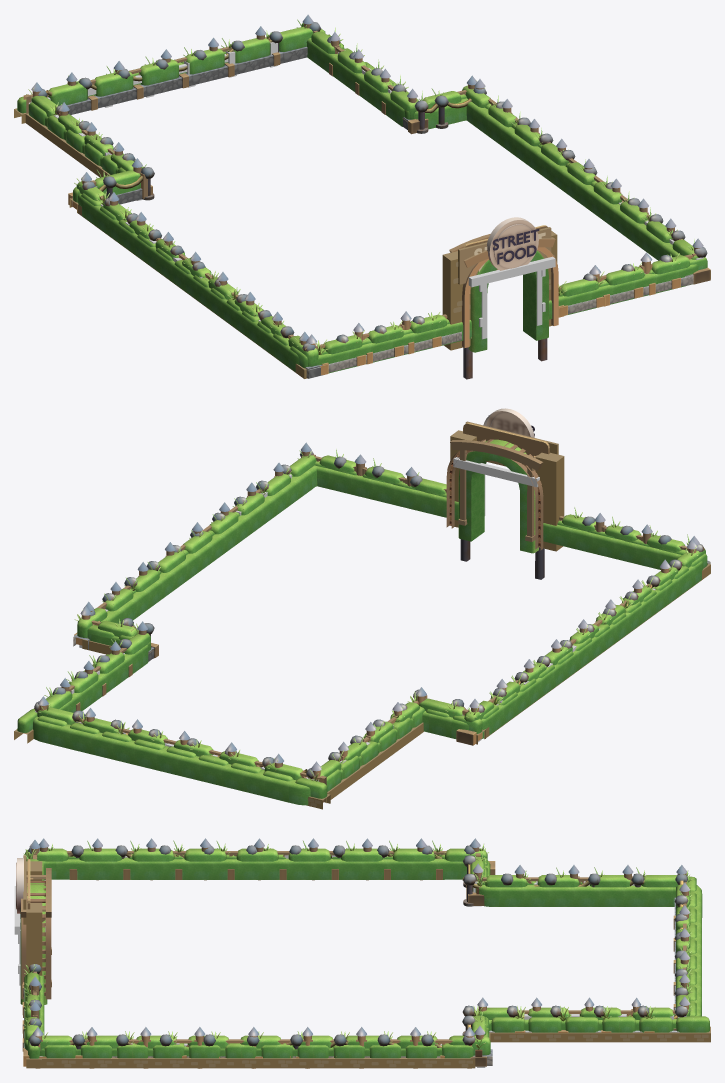
File: fences .fbx
3 views of the same model, one above another, from view 1: azimuth 30°, elevation 25°; view 2: azimuth 150°, elevation 25°; view 3: azimuth 270°, elevation 25° (orthographic).
Visible parts, largest first — view 1: Cube.033, Cube.030, Text.002, Cube.027, Cube.039, Cube.034, Cube.035, Cube.021, Cube.029, arc_2, Cube.024, Cube.026 (+15 smaller); view 2: Cube.033, Cube.027, Cube.035, Cube.021, Cube.039, Cube.034, Text.002, Cube.020, Cube.030, Cylinder.002, Cube.024, Cube.029 (+10 smaller); view 3: Cube.033, Cube.017, Cube.019, Cube.034, Cube.027, Text.002, Cylinder.003, Cube.031, Cube.039, Sphere.002, Cylinder.010, Cube.029 (+17 smaller).
Boxes of the visible parts, box(x1,y1,x2,y2) form: Cube.033: box(45, 38, 698, 373); Cube.030: box(48, 26, 313, 114); Text.002: box(462, 217, 558, 348); Cube.027: box(462, 85, 710, 284); Cube.039: box(442, 227, 557, 350); Cube.034: box(68, 181, 322, 378); Cube.035: box(468, 250, 548, 352); Cube.021: box(25, 102, 125, 177); Cube.029: box(311, 31, 428, 134); arc_2: box(468, 256, 555, 339); Cube.024: box(77, 193, 308, 378); Cube.026: box(558, 255, 693, 317); Cube.033: box(33, 465, 703, 805); Cube.027: box(73, 455, 316, 649); Cube.035: box(458, 439, 538, 553); Cube.021: box(326, 706, 425, 802); Cube.039: box(450, 421, 564, 551); Cube.034: box(456, 548, 709, 745); Text.002: box(446, 408, 543, 550); Cube.020: box(37, 715, 330, 809); Cube.030: box(37, 707, 302, 780); Cylinder.002: box(450, 440, 542, 541); Cube.024: box(482, 553, 710, 739); Cube.029: box(46, 633, 158, 710); Cube.033: box(24, 857, 702, 1056); Cube.017: box(42, 1043, 475, 1068); Cube.019: box(490, 1016, 710, 1042); Cube.034: box(25, 848, 495, 879); Cube.027: box(23, 1035, 492, 1066); Text.002: box(16, 858, 51, 999); Cylinder.003: box(32, 1027, 474, 1068); Cube.031: box(485, 875, 678, 887); Cube.039: box(23, 855, 42, 975); Sphere.002: box(28, 1034, 441, 1049); Cylinder.010: box(39, 838, 480, 880); Cube.029: box(478, 1007, 674, 1019).
Bounding box in the file's own units: 3.07 × 1.1 × 4.58.
